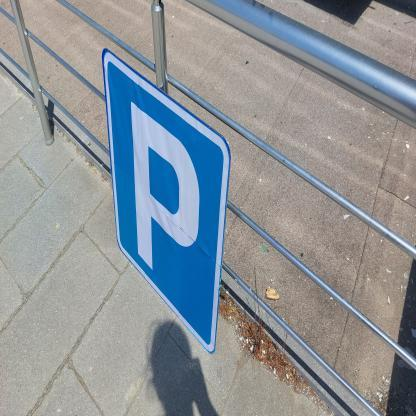parking: (102, 44, 232, 354)
